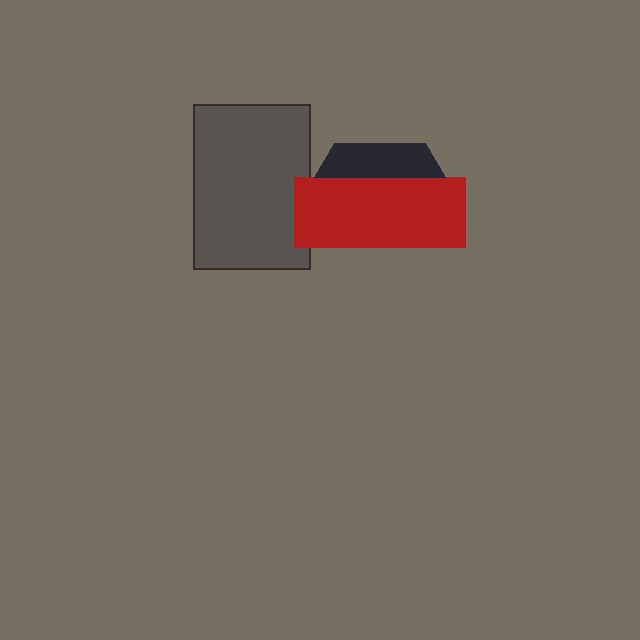concrete_damage: (193, 104, 310, 269)
vehicle: (294, 143, 465, 247)
